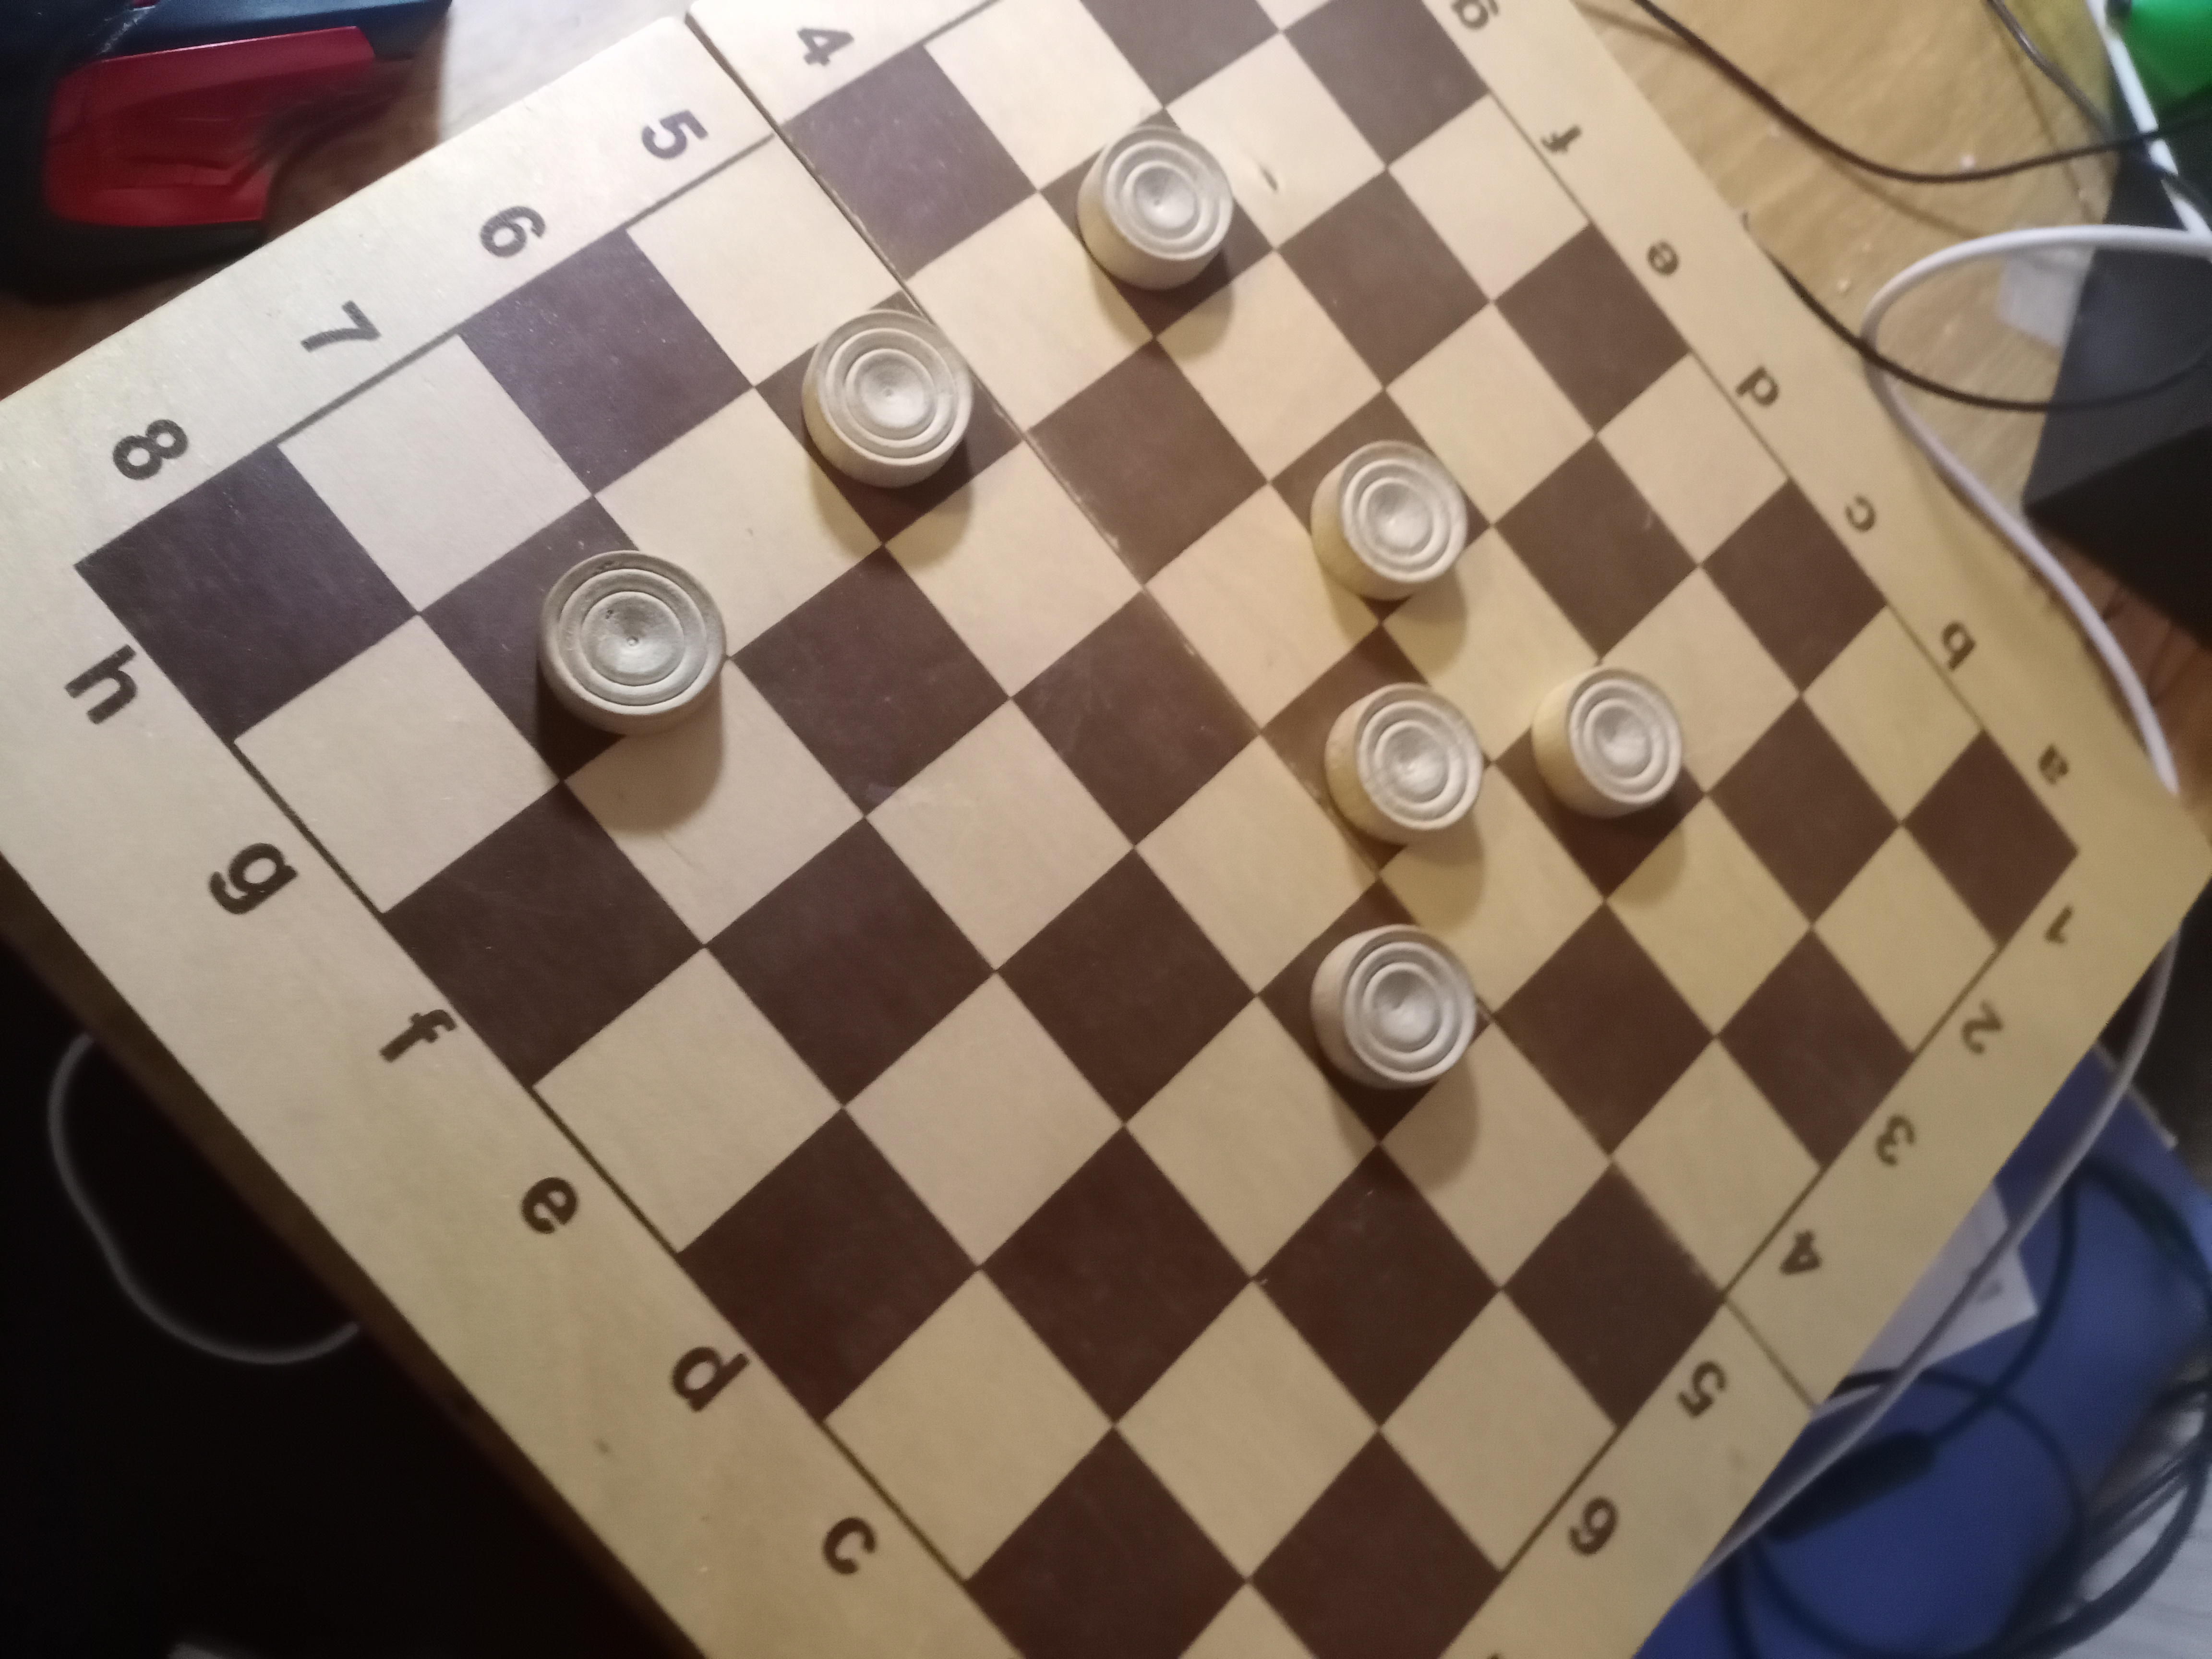White_Draught: (416, 497, 728, 782), (756, 291, 1026, 544), (1258, 878, 1493, 1143), (1259, 624, 1494, 871), (1038, 106, 1277, 338), (1270, 389, 1493, 624), (1494, 662, 1707, 903)
